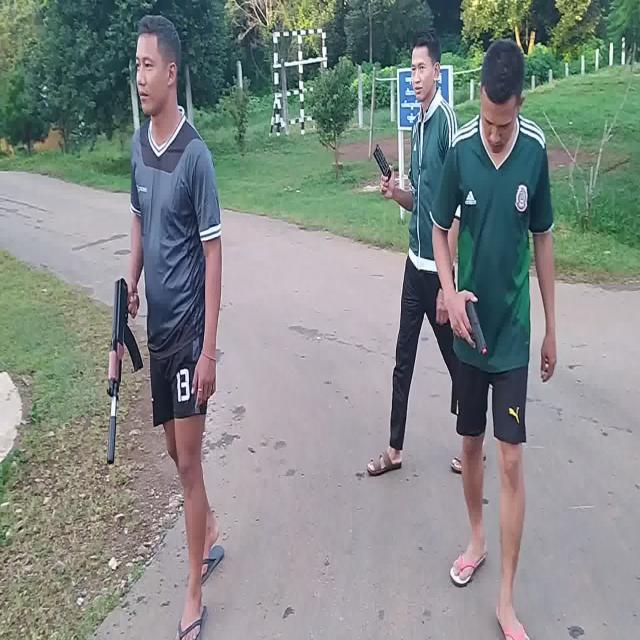gun: (107, 279, 143, 463), (466, 300, 487, 355)
